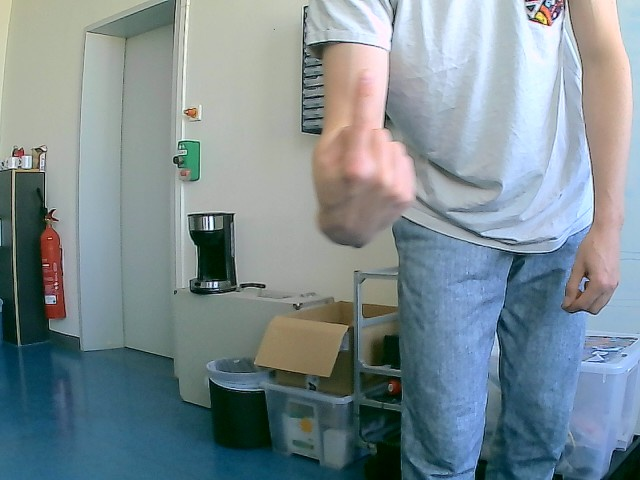6: (311, 70, 418, 249)
no_gesture: (556, 225, 621, 316)
